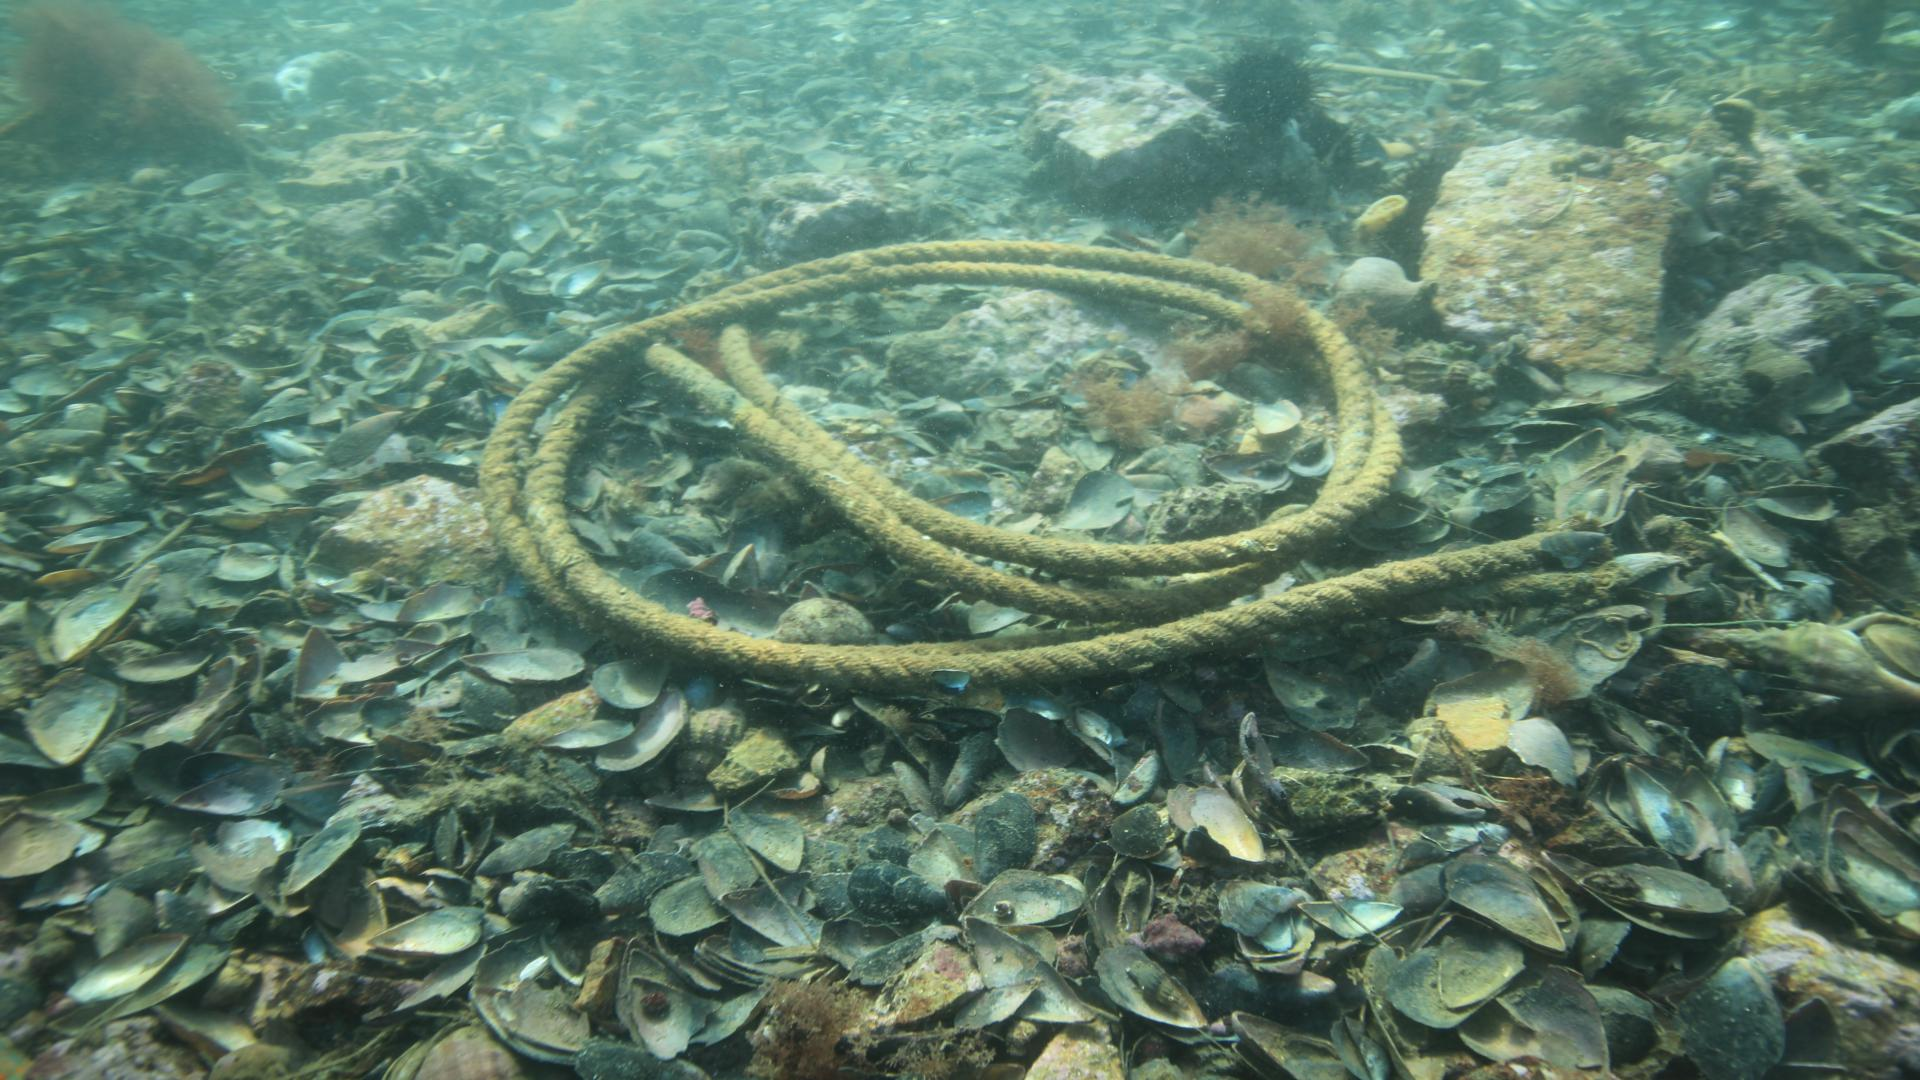bundle of ropes: (469, 235, 1549, 713)
